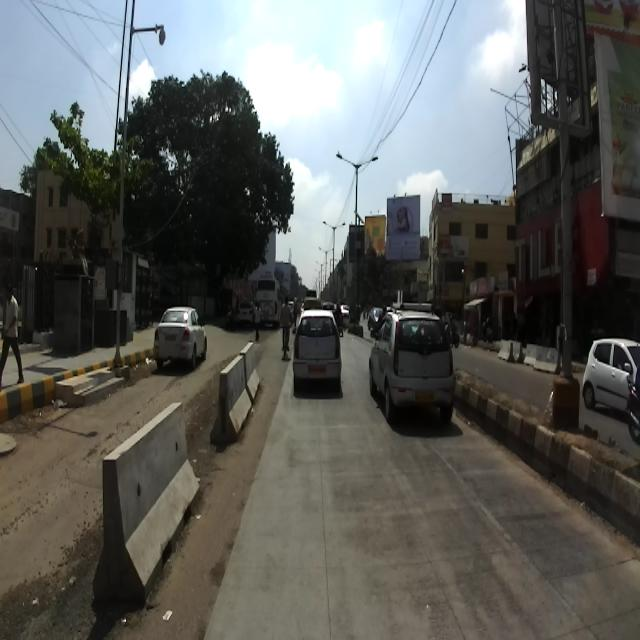barrier ahead at: (88, 395, 205, 615), (215, 338, 262, 436)
car ahead at: (366, 296, 465, 434), (292, 300, 346, 404), (150, 299, 206, 370)
